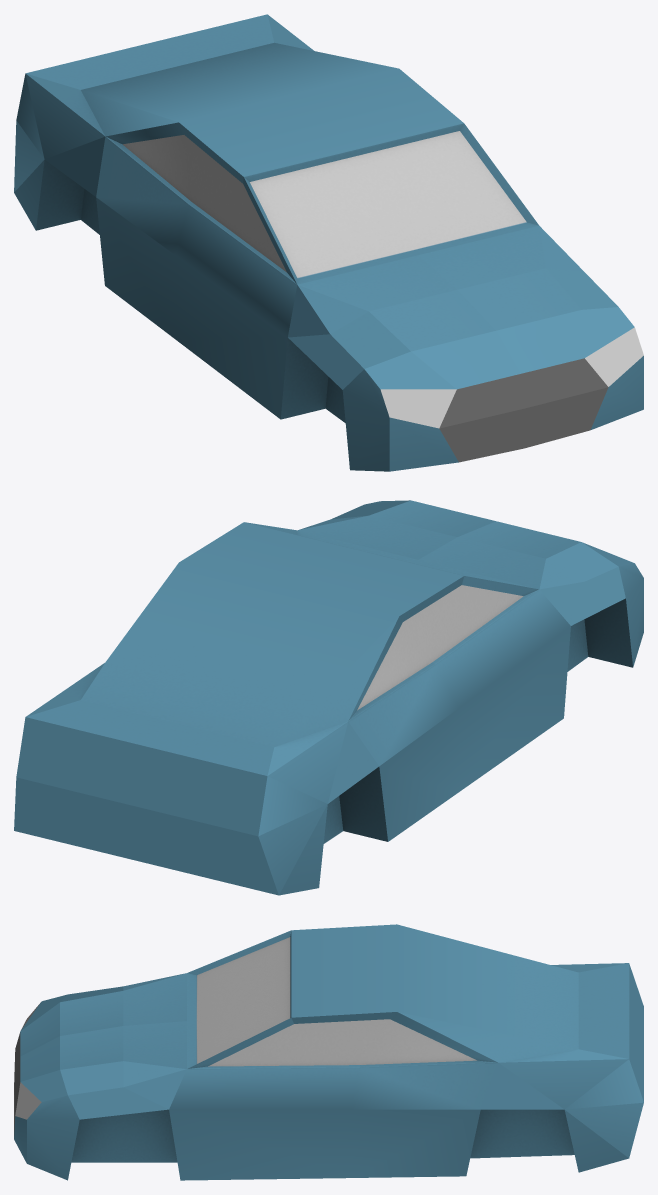
The model's file is CarModel_2_PropCar_Blue (1).fbx.
The picture shows the model from 3 angles, top to bottom: view 1: azimuth 30°, elevation 25°; view 2: azimuth 150°, elevation 25°; view 3: azimuth 270°, elevation 25°; orthographic projection. The views are drawn at different scales.
Parts seen in each view (by area): view 1: CarModel_2_Ref:pCube5; view 2: CarModel_2_Ref:pCube5; view 3: CarModel_2_Ref:pCube5.
Part boxes in pixels (x1,y1,x2,y2): CarModel_2_Ref:pCube5: (14,14,643,471); CarModel_2_Ref:pCube5: (14,500,643,895); CarModel_2_Ref:pCube5: (14,924,643,1180).
Size of the model in its own units: 4.06 by 2.63 by 9.61.
1 material, 1 textured.
